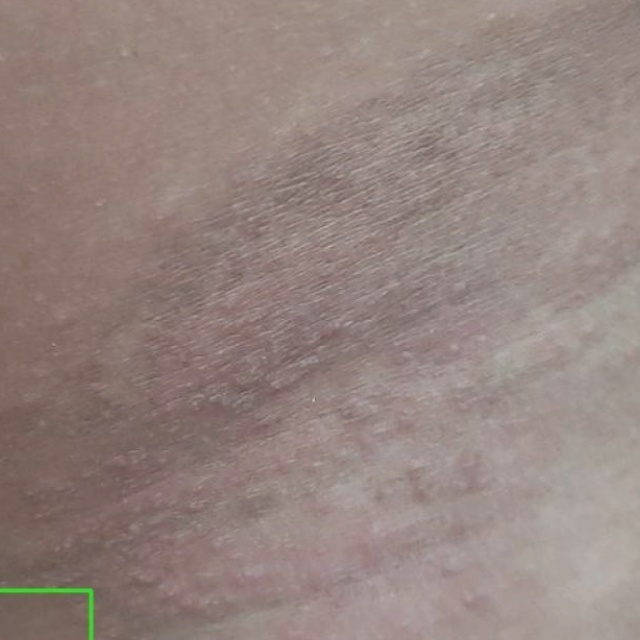Tinea Corporis: (0, 590, 91, 639)
